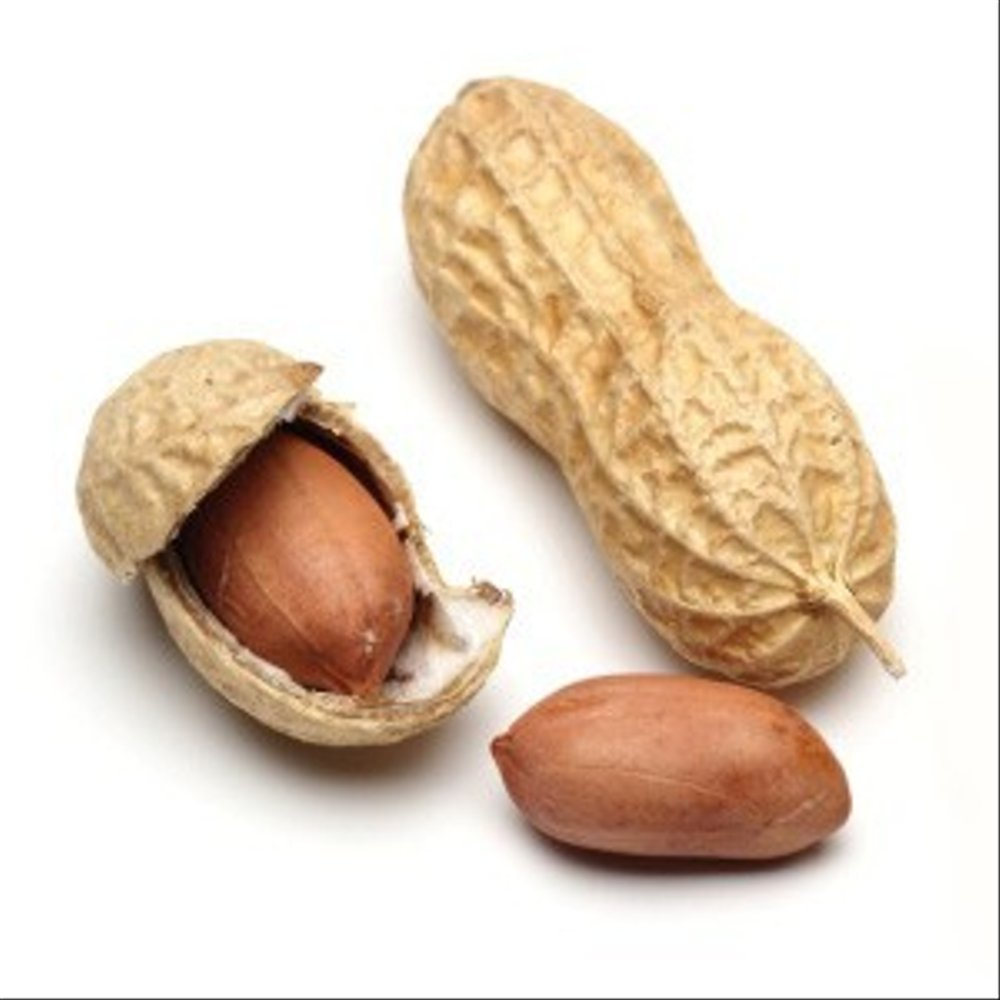kacang2: (389, 62, 929, 700)
